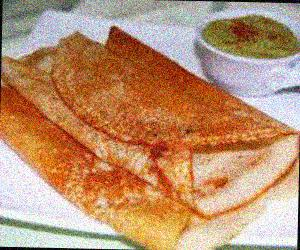dosa: (1, 33, 300, 217)
